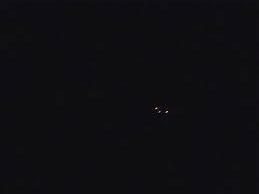Plane: (144, 102, 176, 119)
